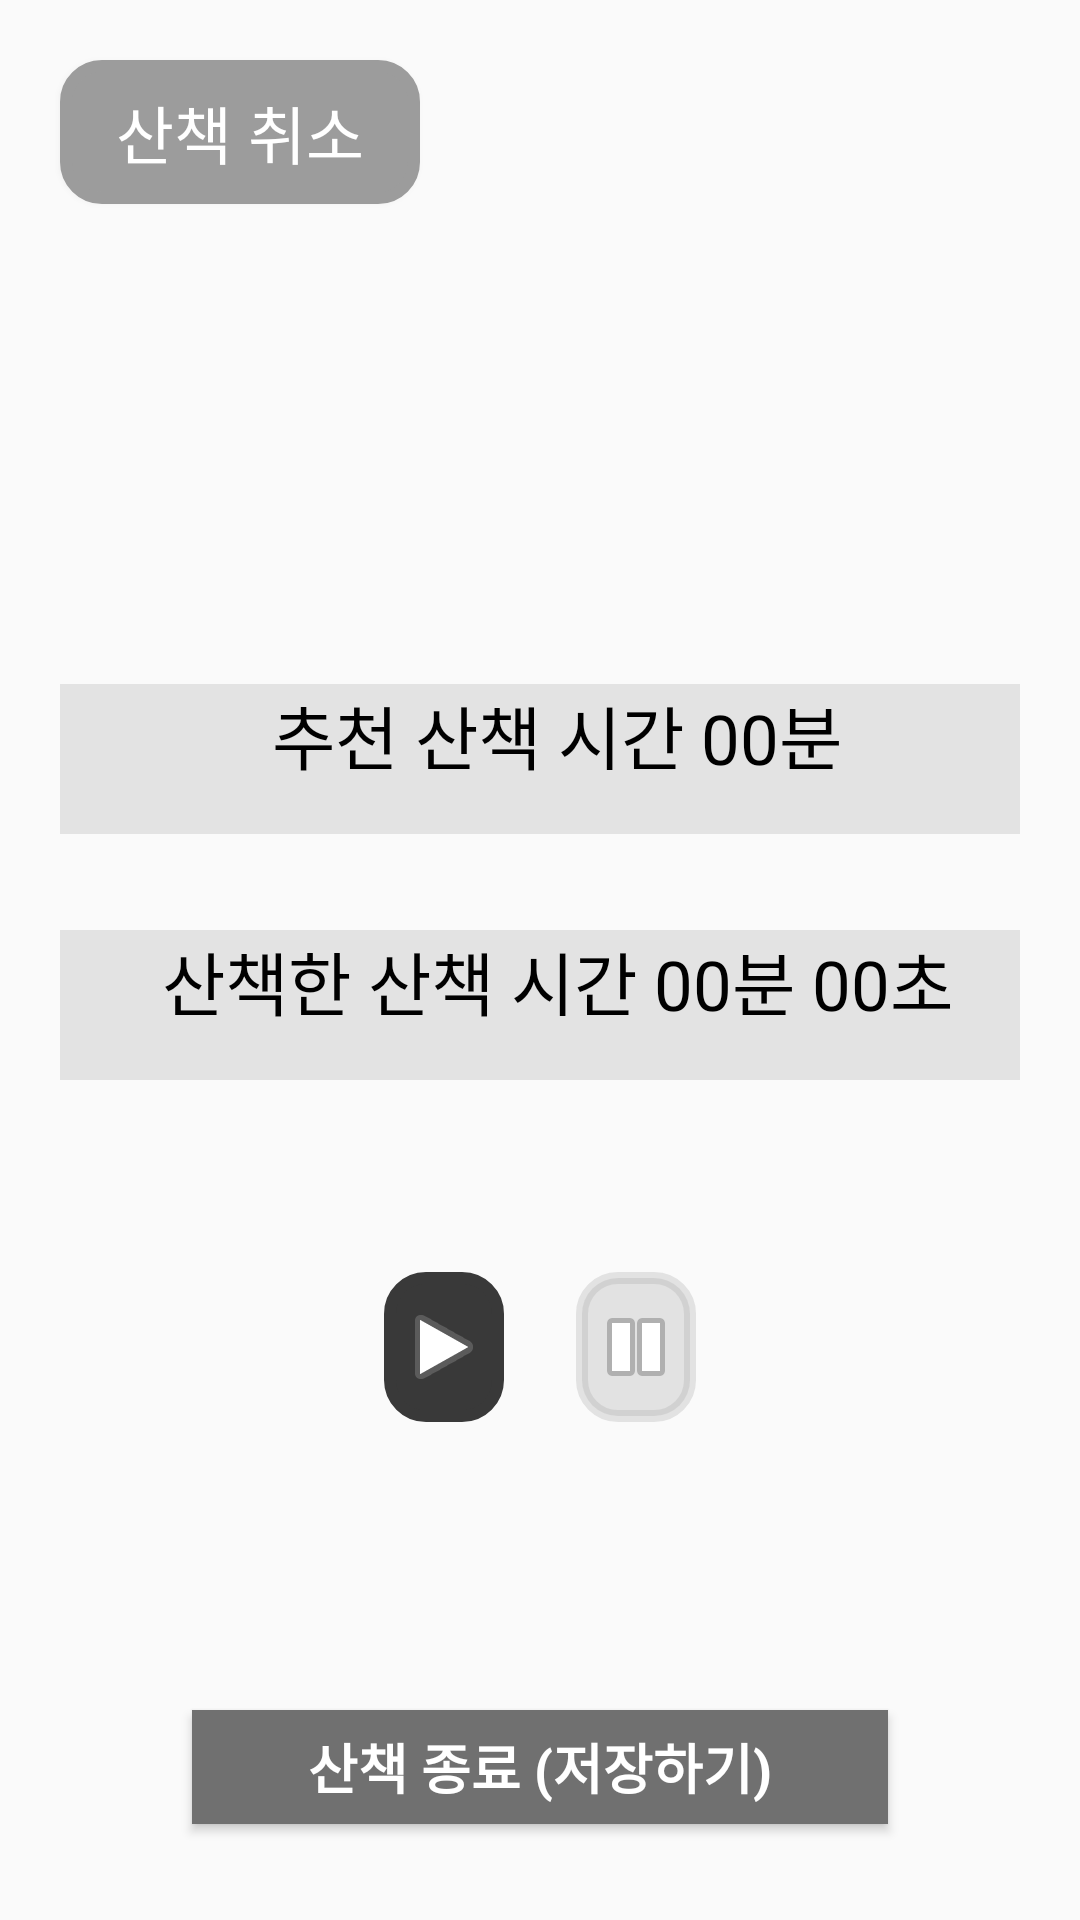

Locate icon controls on the screen. Image size 1080 x 1920, boxes as Rect(x1, y1, x2, y2).
pause: Rect(576, 1272, 696, 1422)
play: Rect(384, 1272, 504, 1422)
